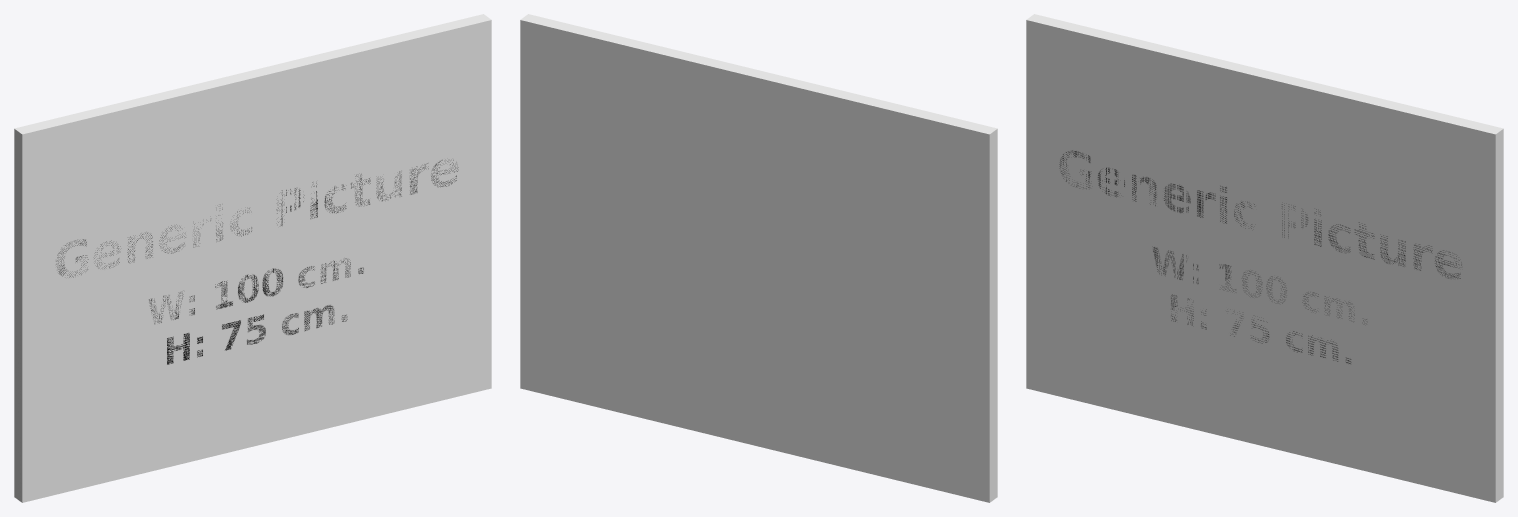
Rendered from Picture 1.dae.
The picture shows the model from 3 angles, left to right: view 1: azimuth 30°, elevation 25°; view 2: azimuth 150°, elevation 25°; view 3: azimuth 330°, elevation 25°; orthographic projection.
Parts seen in each view (by area): view 1: SketchUp, image_0; view 2: SketchUp; view 3: SketchUp, image_0.
Boxes of the visible parts, x1=… form: SketchUp: x1=14, y1=14, x2=491, y2=502; image_0: x1=22, y1=40, x2=491, y2=502; SketchUp: x1=520, y1=14, x2=997, y2=502; SketchUp: x1=1026, y1=14, x2=1503, y2=502; image_0: x1=1026, y1=22, x2=1495, y2=501.
Bounding box in the file's own units: 39.37 × 1.18 × 29.53.
Materials: 2 (1 with a texture image).
